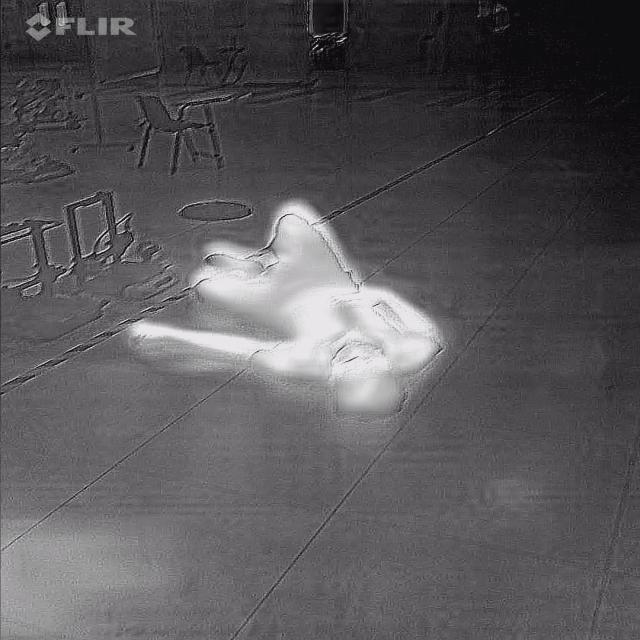Victim: (112, 201, 455, 428)
